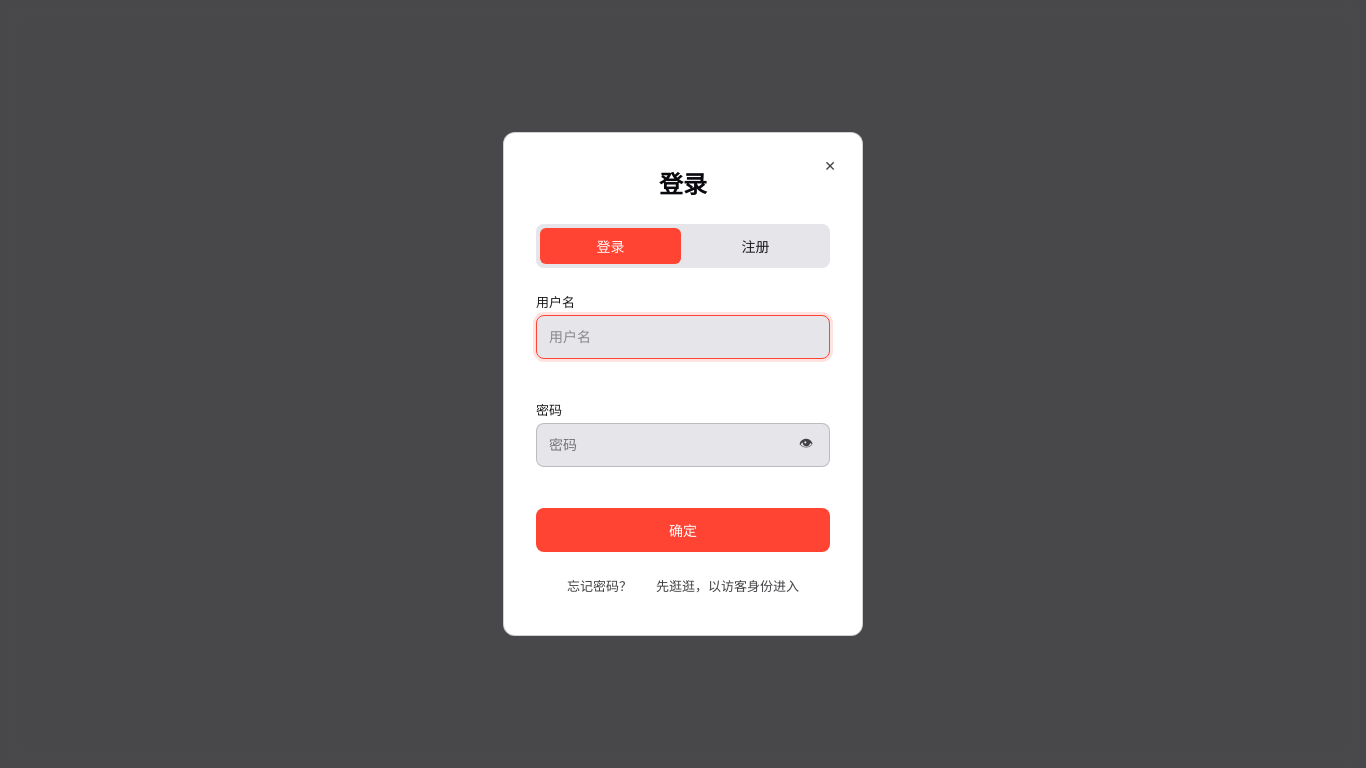
Test: AuthDialog › 注册表单 › 切换到注册模式显示注册标题和表单字段
Click the tab "注册": (756, 246) [685, 228, 826, 264]
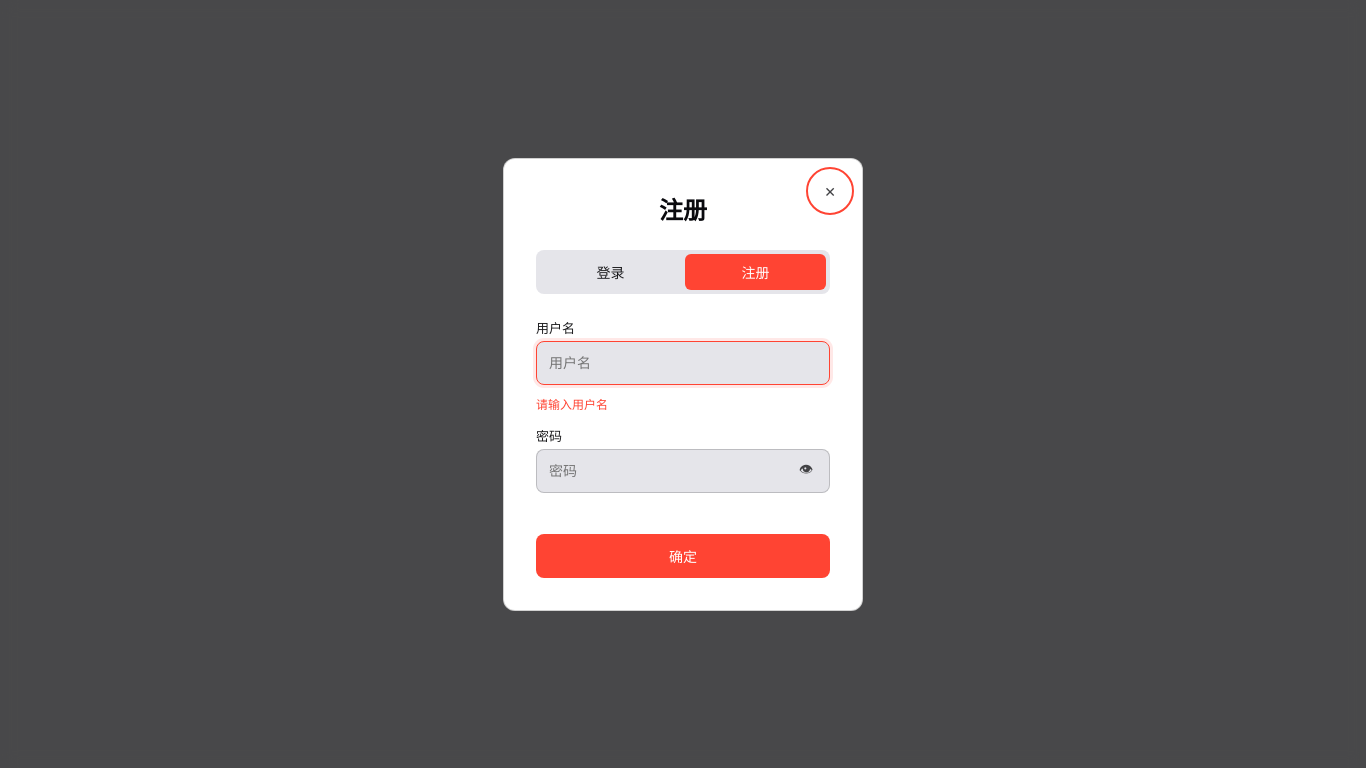
Expected: the field labelled "用户名" is shown, [536, 340, 830, 384]
Result: the heading with id "auth-dialog-title" reads "注册" at [659, 196, 707, 224]
